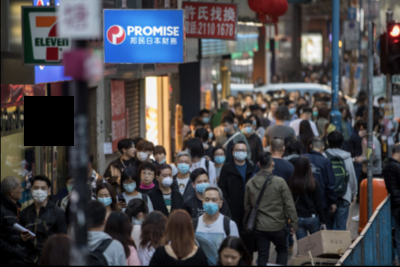mask_weared_incorrect: (153, 153, 165, 163)
with_mask: (203, 195, 220, 215), (31, 184, 48, 203), (194, 177, 210, 194), (97, 192, 113, 208), (159, 171, 174, 187), (233, 146, 248, 162), (176, 157, 190, 174), (122, 179, 137, 192), (135, 148, 149, 161), (214, 151, 226, 163), (222, 123, 233, 133), (242, 124, 252, 135), (287, 104, 297, 114), (201, 113, 210, 124), (358, 128, 368, 137), (67, 179, 74, 191), (312, 108, 319, 116)
without_mask: (221, 246, 240, 265), (142, 169, 155, 183), (14, 183, 22, 199), (126, 144, 136, 156)
